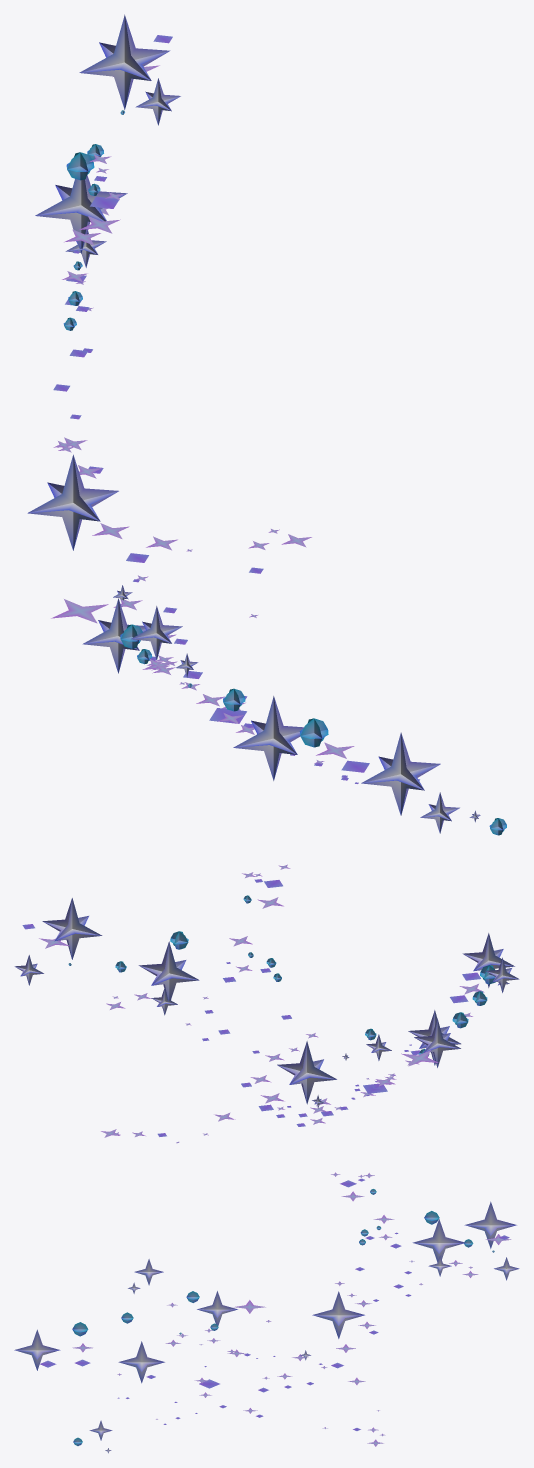
3 renders of one model, top to bottom at view 1: azimuth 30°, elevation 25°; view 2: azimuth 150°, elevation 25°; view 3: azimuth 270°, elevation 25°, orthographic. The views are drawn at different scales.
Visible parts, largest first — view 1: starcloud226; view 2: starcloud226; view 3: starcloud226.
Part boxes in pixels (x1,y1,x2,y2): starcloud226: (27,14,506,835); starcloud226: (14,864,519,1143); starcloud226: (14,1172,519,1453).
Bounding box in the file's own units: 0.2334 × 0.2838 × 0.5.
